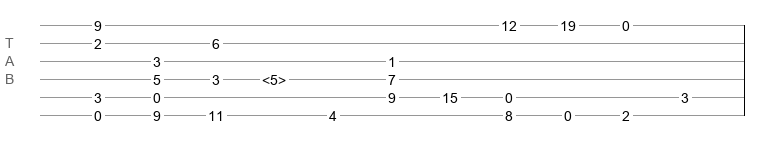0: (94, 108, 102, 118), (153, 90, 161, 100), (505, 90, 513, 100), (564, 108, 572, 118), (622, 18, 630, 28)
1: (388, 54, 396, 64)
11: (208, 108, 224, 118)
12: (501, 18, 517, 28)
15: (442, 90, 458, 100)
19: (560, 18, 576, 28)
2: (94, 36, 102, 46), (622, 108, 630, 118)
3: (94, 90, 102, 100), (153, 54, 161, 64), (212, 72, 220, 82), (681, 90, 689, 100)
4: (329, 108, 337, 118)
5: (153, 72, 161, 82)
6: (212, 36, 220, 46)
7: (388, 72, 396, 82)
8: (505, 108, 513, 118)
9: (94, 18, 102, 28), (153, 108, 161, 118), (388, 90, 396, 100)
harmonic: (262, 72, 286, 82)
